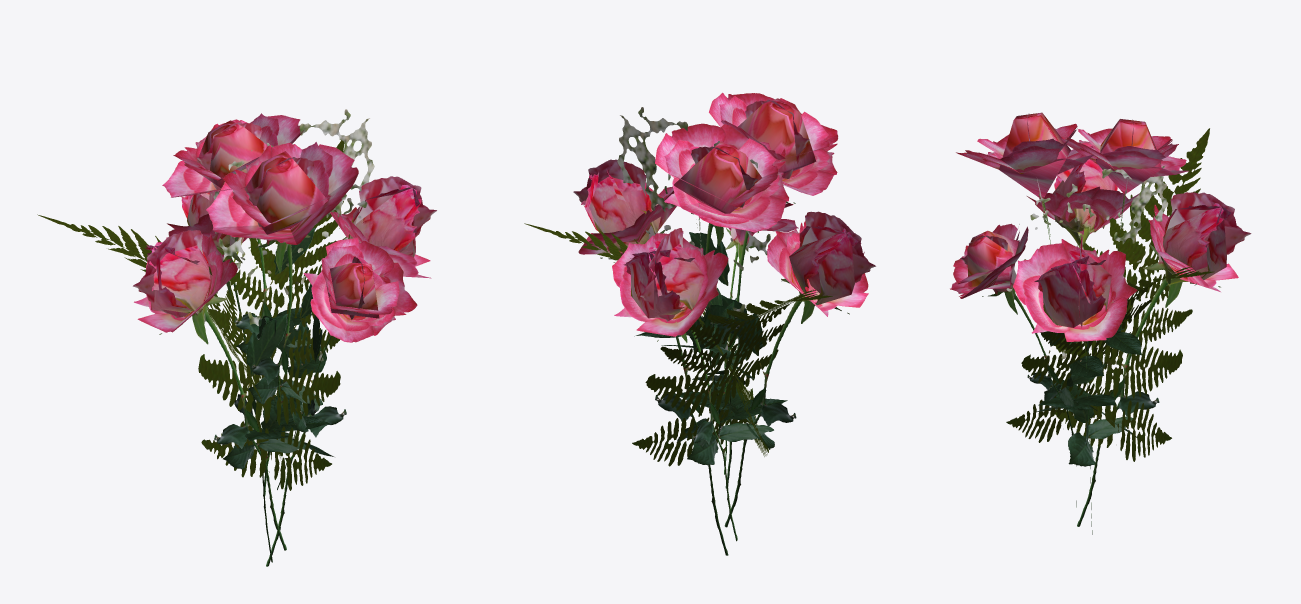
Rendered from Roses_Half_Dozen.fbx.
The picture shows the model from 3 angles, left to right: view 1: azimuth 30°, elevation 25°; view 2: azimuth 150°, elevation 25°; view 3: azimuth 270°, elevation 25°; orthographic projection. The views are drawn at different scales.
Visible parts, largest first — view 1: Rose1.005; view 2: Rose1.005; view 3: Rose1.005.
Boxes of the visible parts, box(x1,y1,x2,y2) form: Rose1.005: box(37, 109, 436, 566); Rose1.005: box(524, 92, 875, 555); Rose1.005: box(950, 112, 1251, 534).
Bounding box in the file's own units: 40.24 × 52.52 × 32.28.
